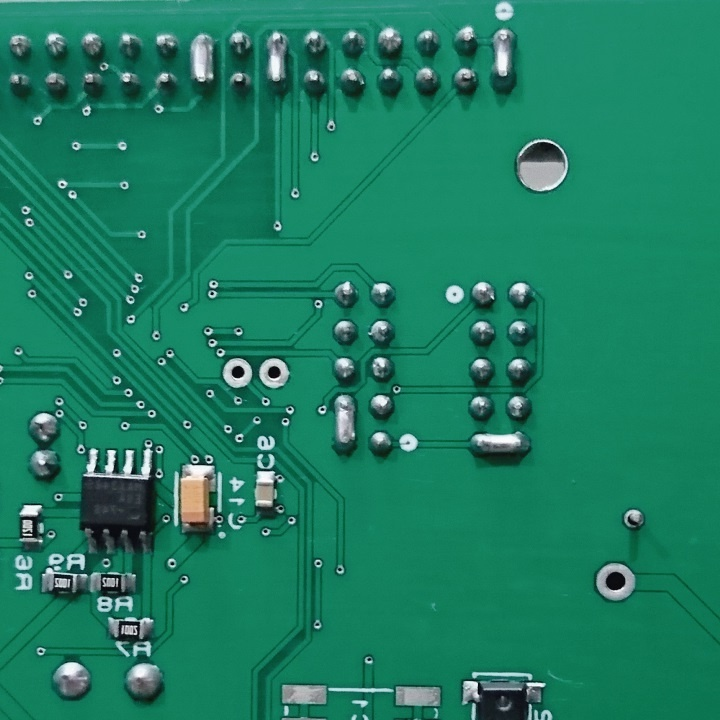F: (594, 560, 640, 604), (256, 353, 294, 392), (221, 355, 254, 392), (620, 507, 650, 537)
P: (464, 426, 535, 464), (490, 23, 521, 100), (187, 29, 220, 98), (263, 26, 294, 98), (330, 389, 361, 458)
